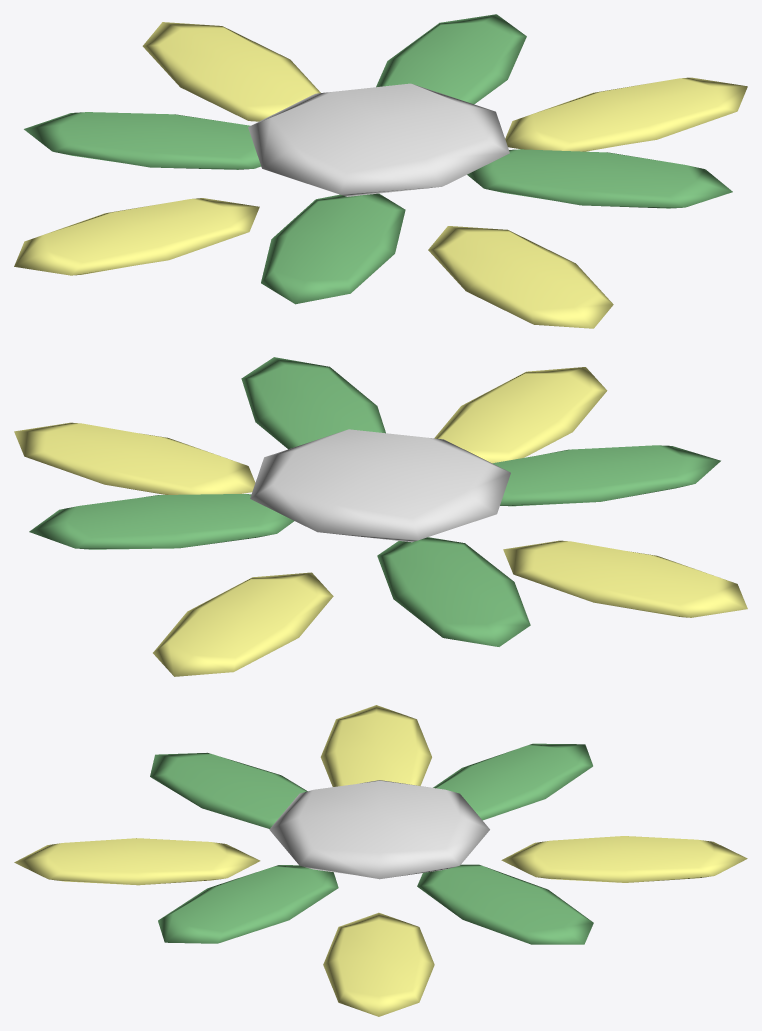
Rendered from Flower.fbx.
The picture shows the model from 3 angles, top to bottom: view 1: azimuth 30°, elevation 25°; view 2: azimuth 150°, elevation 25°; view 3: azimuth 270°, elevation 25°; orthographic projection. The views are drawn at different scales.
Visible parts, largest first — view 1: Cube, Cube.002, Cube.004, Cube.001, Cube.007, Cube.008, Cube.006, Cube.003, Cube.005; view 2: Cube, Cube.002, Cube.003, Cube.001, Cube.006, Cube.005, Cube.004, Cube.007, Cube.008; view 3: Cube, Cube.003, Cube.004, Cube.001, Cube.008, Cube.005, Cube.002, Cube.007, Cube.006.
Part boxes in pixels (<box>): Cube: <box>248,83,509,196</box>; Cube.002: <box>14,198,259,275</box>; Cube.004: <box>428,226,613,328</box>; Cube.001: <box>505,77,747,151</box>; Cube.007: <box>261,193,405,304</box>; Cube.008: <box>467,149,732,208</box>; Cube.006: <box>24,112,261,169</box>; Cube.003: <box>142,22,320,121</box>; Cube.005: <box>376,14,526,104</box>; Cube: <box>250,429,510,542</box>; Cube.002: <box>503,540,747,617</box>; Cube.003: <box>153,572,333,676</box>; Cube.001: <box>14,422,255,494</box>; Cube.006: <box>377,537,530,646</box>; Cube.005: <box>29,494,294,549</box>; Cube.004: <box>434,367,607,463</box>; Cube.007: <box>492,445,720,506</box>; Cube.008: <box>241,357,385,449</box>; Cube: <box>269,780,489,879</box>; Cube.003: <box>501,836,747,882</box>; Cube.004: <box>14,838,260,885</box>; Cube.001: <box>323,912,434,1016</box>; Cube.008: <box>158,865,338,943</box>; Cube.005: <box>417,864,593,944</box>; Cube.002: <box>320,705,431,786</box>; Cube.007: <box>150,752,307,828</box>; Cube.006: <box>433,743,592,820</box>.
Size of the model in its own units: 121 by 10.35 by 120.
